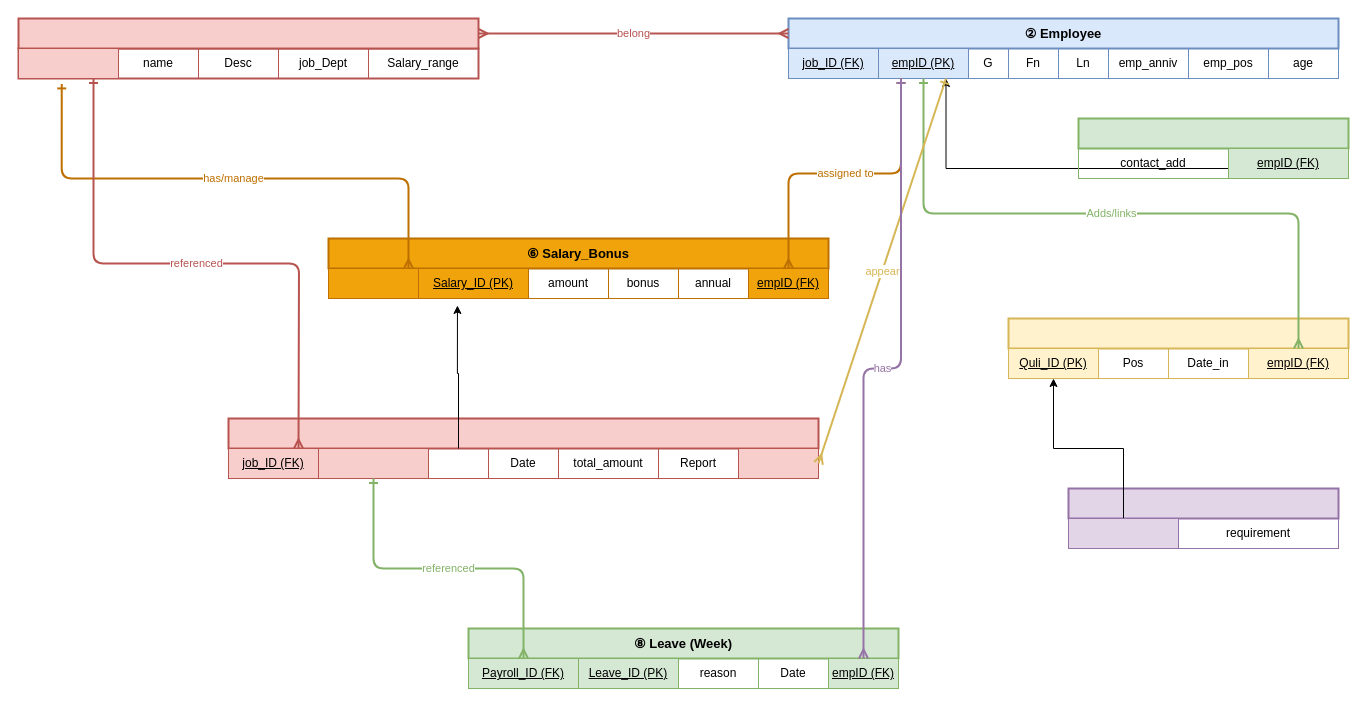
Image size: 1366x706. Some labels were removed from this diagram. The shapes that lost their labels are listed below. From the top down, each one's centre as x and y in pixels, then its label:
At (x=248, y=33): "① Job_Department".
At (x=68, y=63): "job_ID".
At (x=1213, y=133): "③ Emp_Address".
At (x=373, y=283): "jobID (FK)".
At (x=1178, y=333): "④ Qualifications (Weak Entity)".
At (x=523, y=433): "⑦ Payroll".
At (x=373, y=463): "Payroll_ID (PK)".
At (x=458, y=463): "SYD".
At (x=778, y=463): "emp_ID (FK)".
At (x=1203, y=503): "⑤ Requirements_Q".
At (x=1123, y=533): "Quli_ID (FK)".
